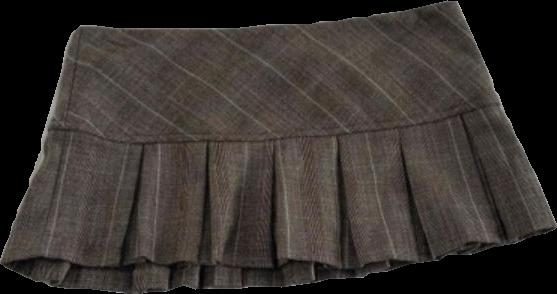Hemline: (0, 224, 556, 269)
Waistline: (42, 101, 504, 144), (75, 0, 460, 33)
